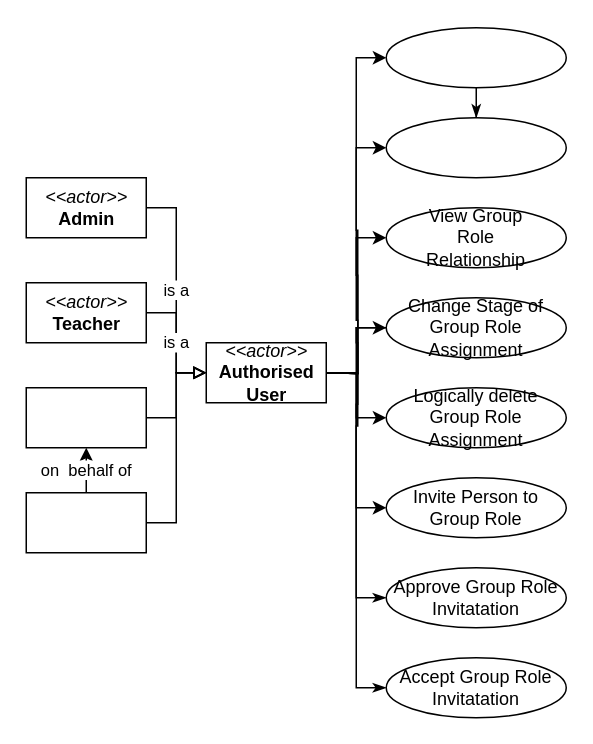
Some shapes in this 593 by 744 pixel diagram are drawn without their labels. The shapes that lost their labels are listed below. From the top down, each one's centre as x and y in pixels, then its label:
At (475,57): "View Filtered list of Group Roles".
At (475,147): "View Group of Group Members".
At (85,417): "<<actor>> Learner".
At (85,522): "<<actor>> Whānau".
